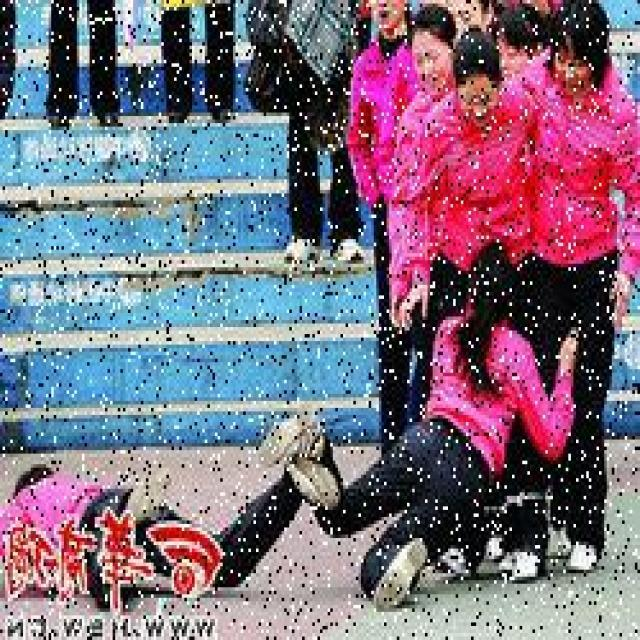fall: (5, 443, 318, 591)
